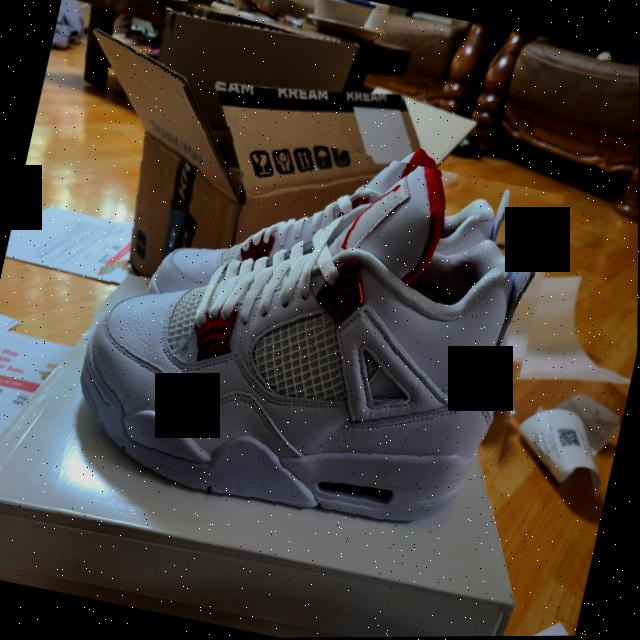shoe: (55, 106, 566, 584)
